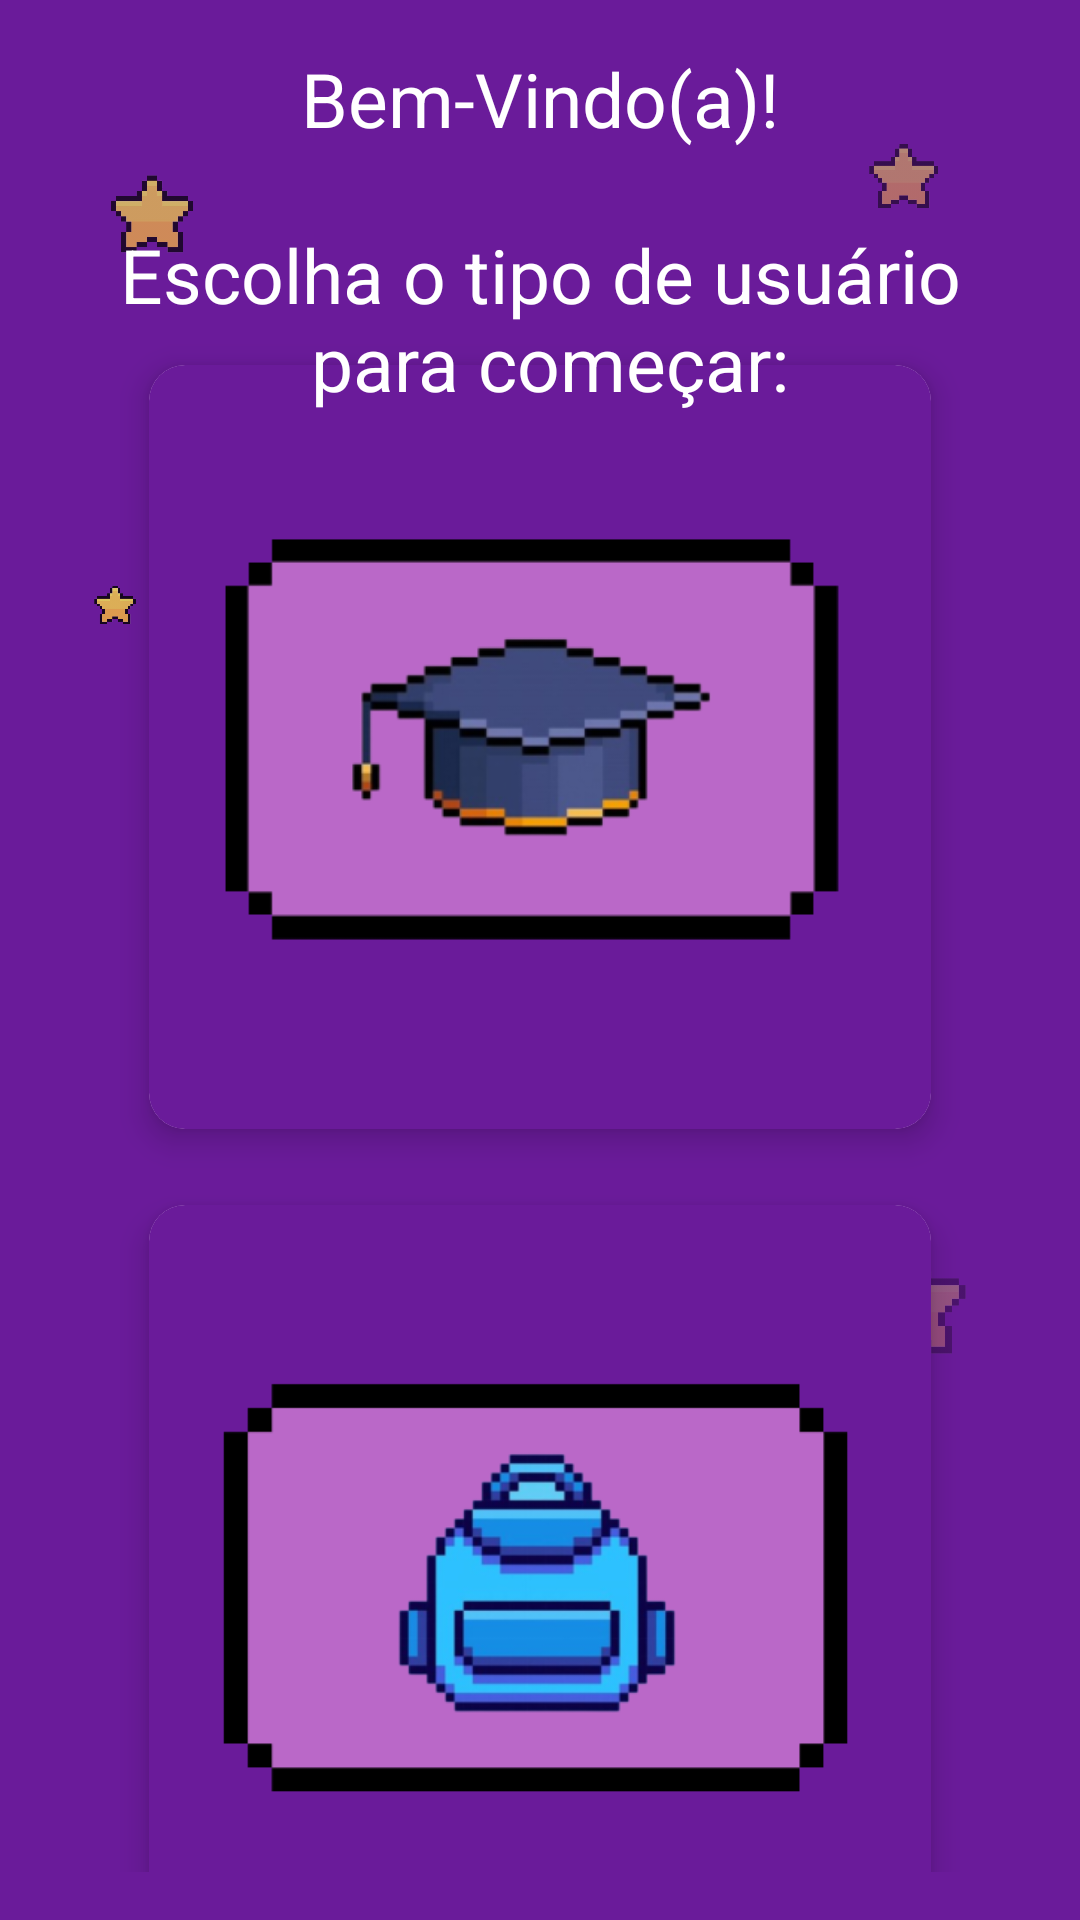

Icon bounding boxes for this 1080w x 1920h phone screenshot, format (x1, y1, x2, y2):
starpng5: (94, 586, 136, 624)
